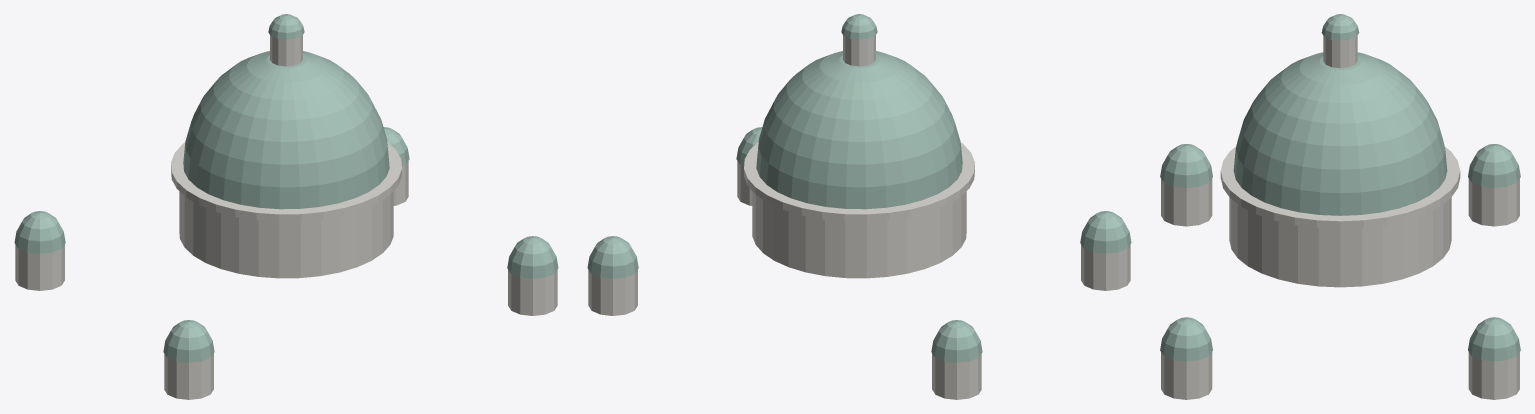
File: harbour_dome.glb
3 renders of one model, left to right at view 1: azimuth 30°, elevation 25°; view 2: azimuth 150°, elevation 25°; view 3: azimuth 270°, elevation 25°, orthographic. The views are drawn at different scales.
Visible parts, largest first — view 1: harbour_dome; view 2: harbour_dome; view 3: harbour_dome.
Boxes of the visible parts, box(x1,y1,x2,y2) form: harbour_dome: box(14, 14, 558, 399); harbour_dome: box(587, 14, 1131, 399); harbour_dome: box(1160, 14, 1520, 399).
Bounding box in the file's own units: 54.2 × 37 × 42.2.
